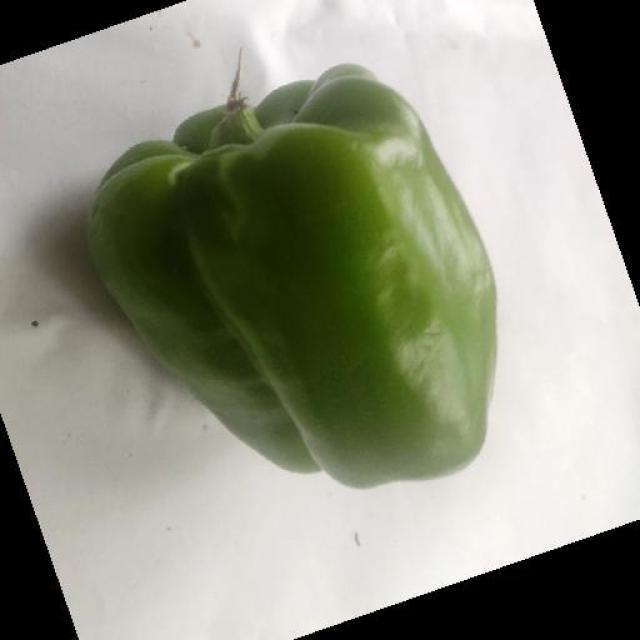Fresh_Capsicum: (151, 150, 557, 510)
